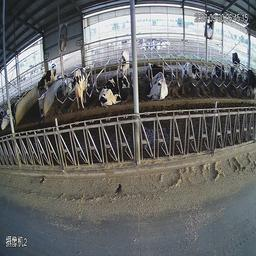cow: (96, 77, 131, 159), (70, 60, 91, 111), (36, 62, 59, 99), (146, 77, 170, 108), (181, 53, 203, 85), (113, 44, 131, 74), (143, 56, 167, 77), (244, 63, 256, 102), (211, 58, 226, 82), (229, 48, 241, 76)
